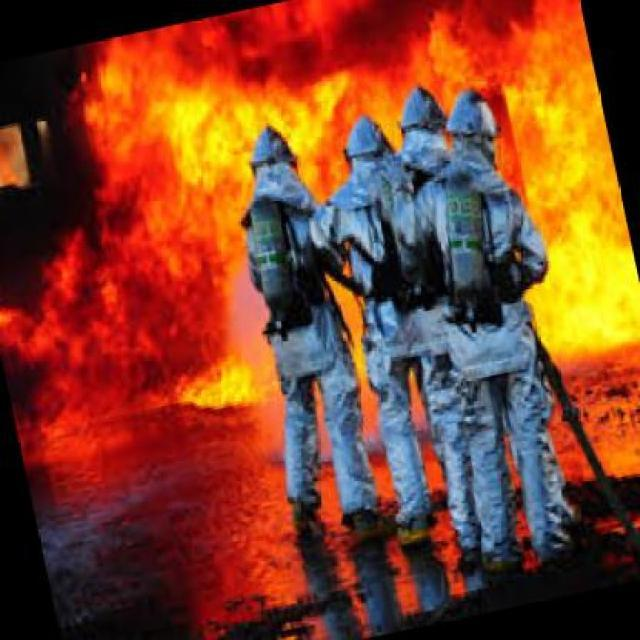Fire: (16, 194, 270, 443), (112, 31, 531, 167), (492, 16, 616, 360)
